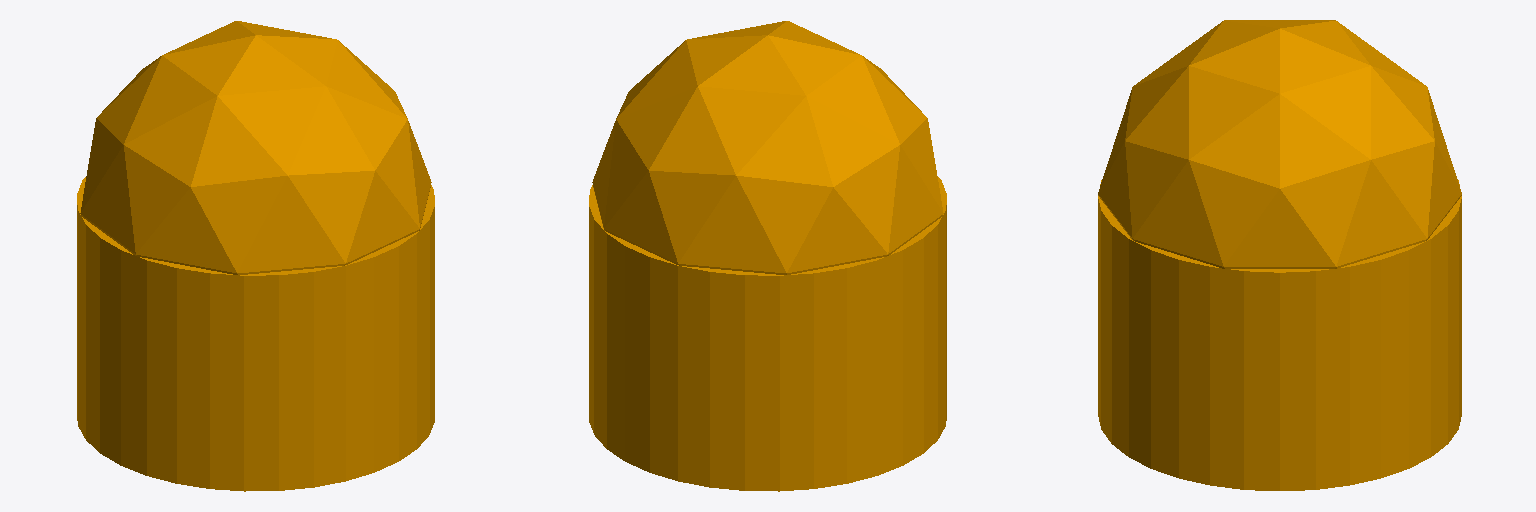
The robot description file, URDF, robot "40mm_grenade":
<?xml version="1.0"?>
<robot name="40mm_grenade">
    <link name="grenade_body">
	<visual>
		<origin rpy="0.0 0 0" xyz="0 0 0"/>
		<geometry>
		     <mesh filename="package://mydrone/meshs/40mm_grenade.dae"/> 
		</geometry>
	</visual>
    </link>
</robot>

--- Render facts (derived) ---
The picture shows the robot from 3 angles, left to right: view 1: azimuth 30°, elevation 25°; view 2: azimuth 150°, elevation 25°; view 3: azimuth 270°, elevation 25°; orthographic projection.
Model 40mm_grenade with 1 links and 0 joints (none), rooted at grenade_body, posed every joint at zero.
Links seen in each view (by area): view 1: grenade_body; view 2: grenade_body; view 3: grenade_body.
Link boxes in pixels (box(x1,y1,x2,y2)): grenade_body: box(77, 21, 434, 491); grenade_body: box(589, 21, 946, 491); grenade_body: box(1098, 20, 1461, 490).
Size in the robot's own frame: 0.08 by 0.08 by 0.0935 metres.
1 mesh visuals loaded from 1 distinct referenced files (1 Collada DAE).